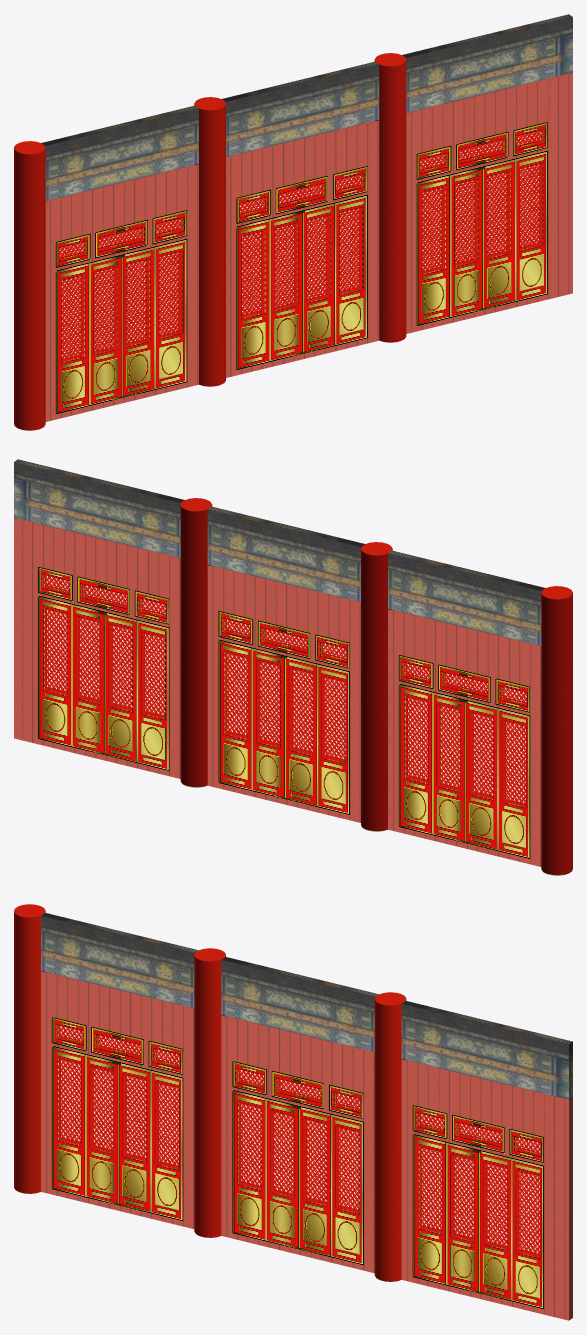
The model's file is wallwallwall.dae.
3 renders of one model, top to bottom at view 1: azimuth 30°, elevation 25°; view 2: azimuth 150°, elevation 25°; view 3: azimuth 330°, elevation 25°, orthographic.
Visible parts, largest first — view 1: MainNode; view 2: MainNode; view 3: MainNode.
Boxes of the visible parts, left/top/right/bottom form: MainNode: left=14, top=14, right=572, bottom=430; MainNode: left=14, top=459, right=572, bottom=875; MainNode: left=14, top=904, right=572, bottom=1320.
Size of the model in its own units: 10.09 by 4.8 by 0.4904.
Materials: 1 (1 with a texture image).
